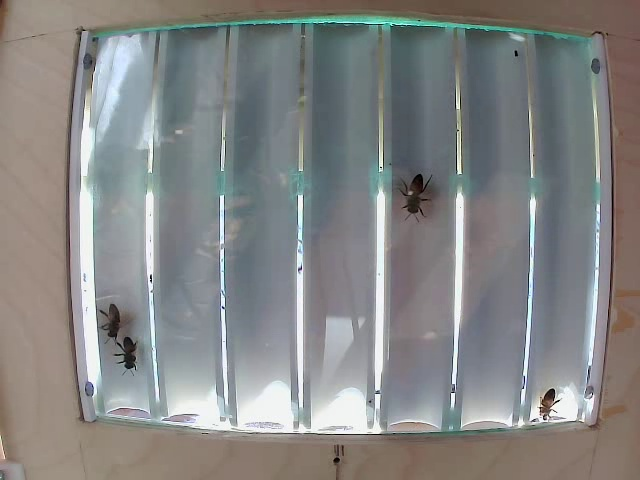bee: (529, 382, 572, 434), (384, 169, 429, 215), (113, 342, 149, 380), (90, 301, 123, 333)
